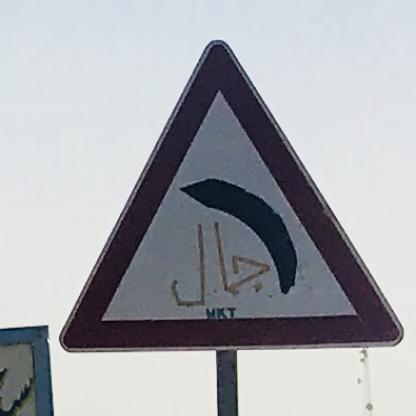Left bend: (59, 37, 411, 359)
